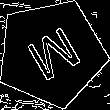M_SE: (18, 19, 84, 87)
